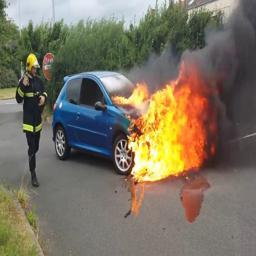fire: (113, 61, 215, 182)
